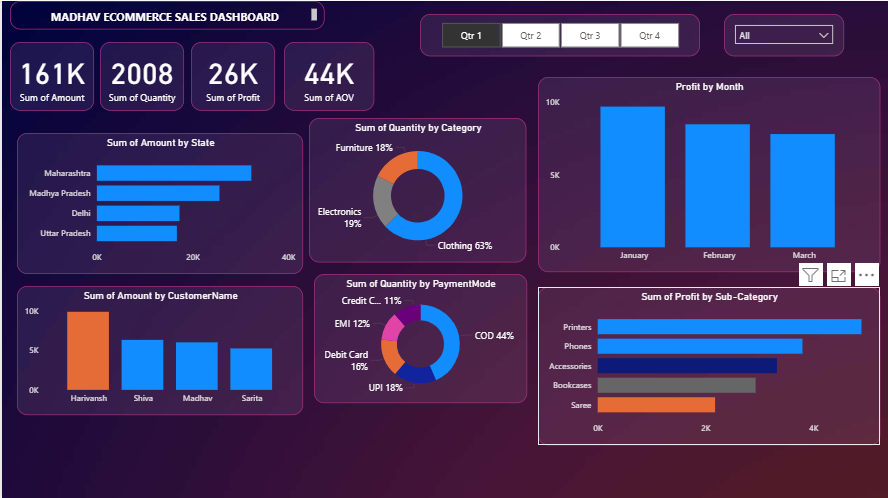

This screenshot's page, from the dashboard's own definition file:
{"tool":"powerbi","page":{"name":"Page 1","canvas":[1280,720],"ordinal":0},"visuals":[{"type":"textbox","box":[10.8,0,453,41],"z":0},{"type":"columnChart","title":"Profit by Month","fields":{"Y":["Sum(Details.Profit)"],"Category":["Orders (1).Order Date.Variation.Date Hierarchy.Month"]},"box":[772.5,108.8,492.5,281.2],"z":1000},{"type":"barChart","fields":{"Category":["Details.Sub-Category"],"Y":["Sum(Details.Profit)"]},"box":[772.5,411.2,492.5,227.5],"z":2000},{"type":"donutChart","fields":{"Category":["Details.Category"],"Y":["Sum(Details.Quantity)"]},"box":[442.2,167.8,313.3,207.8],"z":3000},{"type":"donutChart","fields":{"Y":["Sum(Details.Quantity)"],"Category":["Details.PaymentMode"]},"box":[448.9,393.3,306.7,185.6],"z":4000},{"type":"card","fields":{"Values":["Sum(Details.Amount)"]},"box":[11.1,58.9,121.1,98.9],"z":5000},{"type":"card","fields":{"Values":["Sum(Details.Quantity)"]},"box":[141.1,58.9,121.1,98.9],"z":6000},{"type":"card","fields":{"Values":["Sum(Details.Profit)"]},"box":[272.2,58.9,121.1,98.9],"z":7000},{"type":"card","fields":{"Values":["Sum(Details.AOV)"]},"box":[405.6,58.9,130,98.9],"z":8000},{"type":"barChart","fields":{"Category":["Orders (1).State"],"Y":["Sum(Details.Amount)"]},"box":[21.1,190,412.2,203.3],"z":9000},{"type":"columnChart","fields":{"Category":["Orders (1).CustomerName"],"Y":["Sum(Details.Amount)"]},"box":[21.1,411.1,412.2,185.6],"z":10000},{"type":"slicer","fields":{"Values":["Orders (1).Order Date.Variation.Date Hierarchy.Quarter"]},"box":[602.5,18.8,402.5,61.2],"z":11000},{"type":"slicer","fields":{"Values":["Orders (1).State"]},"box":[1040,18.8,172.5,61.2],"z":12000}]}

Visuals, with their boxes in screenshot pixels (x1, y1, x2, y2), scaled from the page's 1280x720 canvas onto the 888x498 screenshot:
textbox: (x1=7, y1=0, x2=322, y2=28)
"Profit by Month" columnChart: (x1=536, y1=75, x2=878, y2=270)
barChart - Details.Sub-Category x Sum(Details.Profit): (x1=536, y1=284, x2=878, y2=442)
donutChart - Details.Category x Sum(Details.Quantity): (x1=307, y1=116, x2=524, y2=260)
donutChart - Sum(Details.Quantity) x Details.PaymentMode: (x1=311, y1=272, x2=524, y2=400)
card - Sum(Details.Amount): (x1=8, y1=41, x2=92, y2=109)
card - Sum(Details.Quantity): (x1=98, y1=41, x2=182, y2=109)
card - Sum(Details.Profit): (x1=189, y1=41, x2=273, y2=109)
card - Sum(Details.AOV): (x1=281, y1=41, x2=372, y2=109)
barChart - Orders (1).State x Sum(Details.Amount): (x1=15, y1=131, x2=301, y2=272)
columnChart - Orders (1).CustomerName x Sum(Details.Amount): (x1=15, y1=284, x2=301, y2=413)
slicer - Orders (1).Order Date.Variation.Date Hierarchy.Quarter: (x1=418, y1=13, x2=697, y2=55)
slicer - Orders (1).State: (x1=722, y1=13, x2=841, y2=55)
